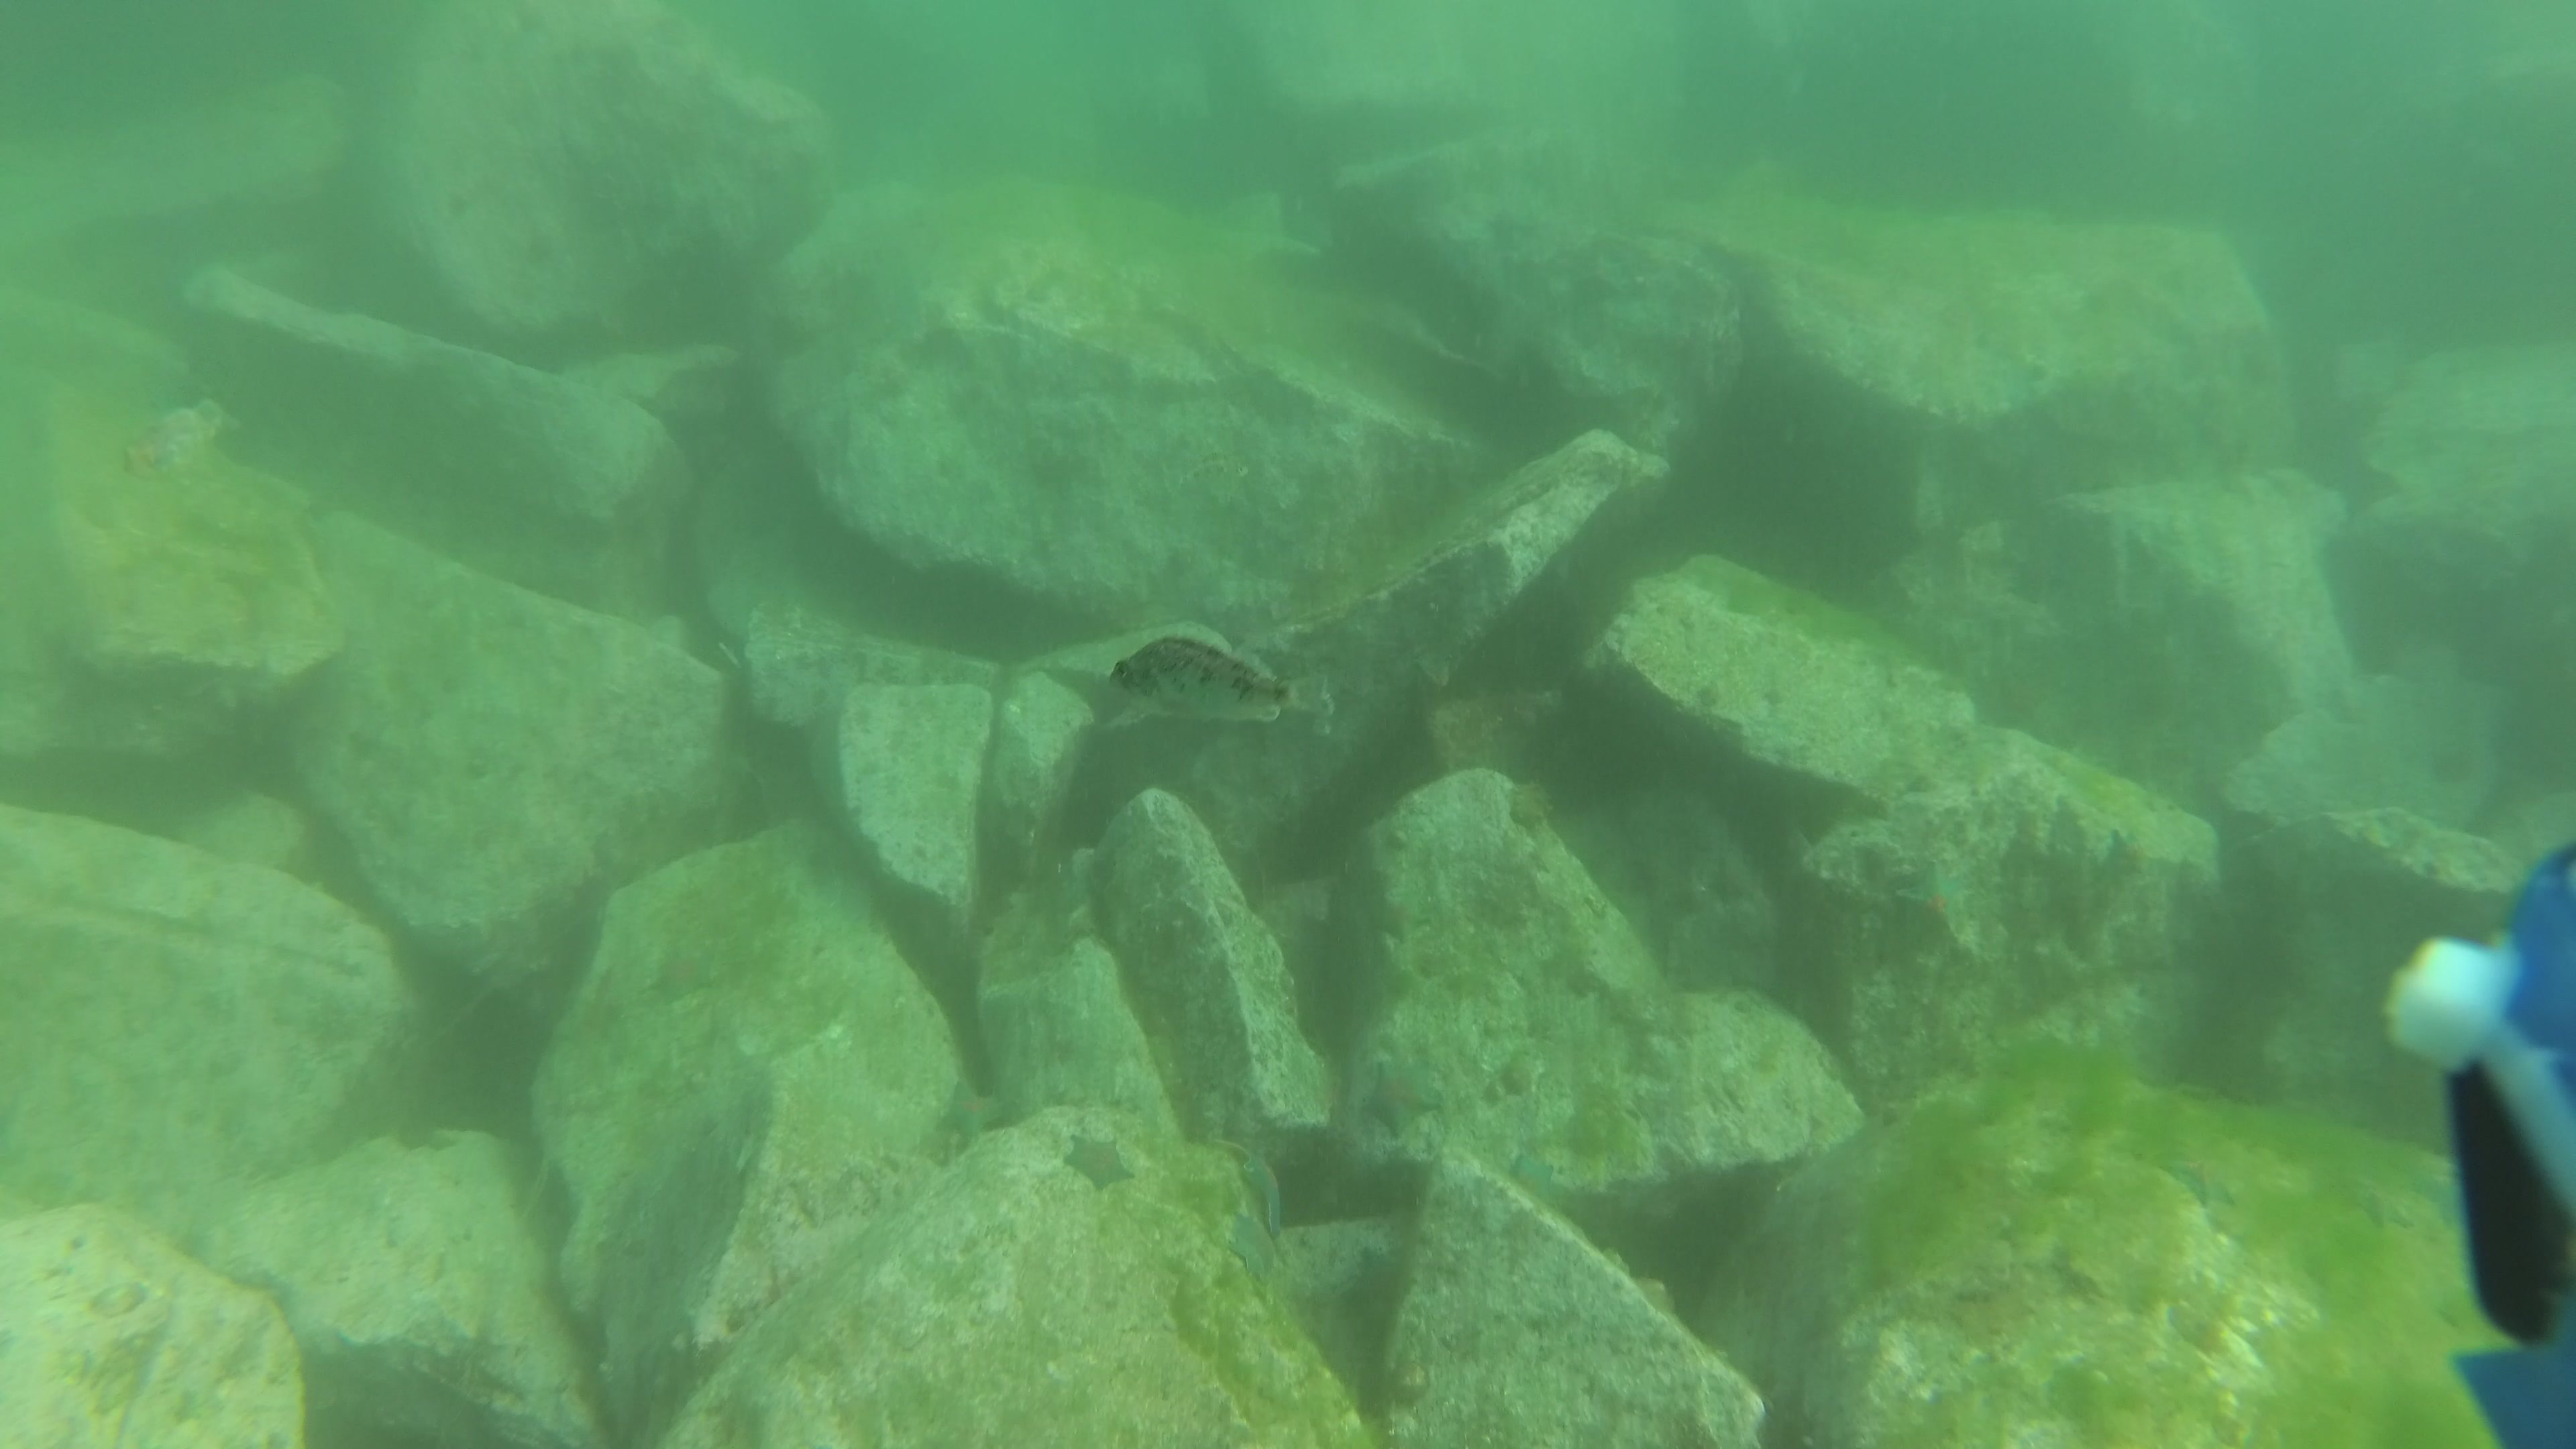holothurian: (1502, 775, 1562, 833)
starfish: (1210, 1132, 1292, 1240), (931, 1074, 1012, 1150), (1056, 1129, 1141, 1194), (1217, 1207, 1283, 1288)
